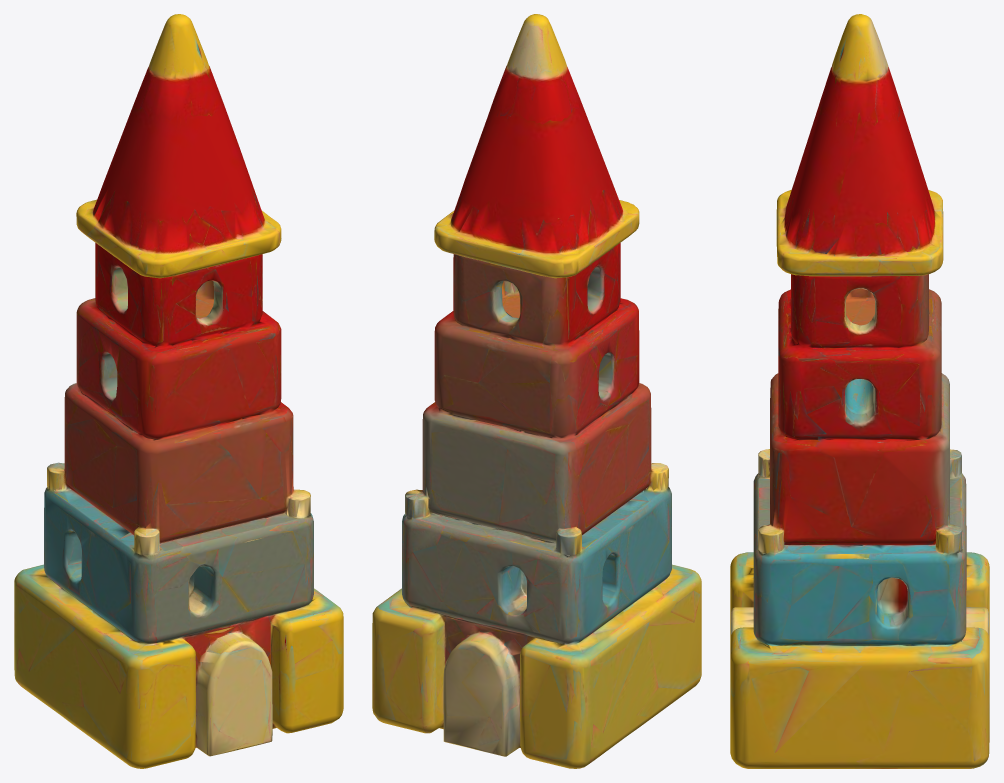
Rendered from toyBlockTower.7f6db496.glb.
3 views of the same model, side by side, from view 1: azimuth 30°, elevation 25°; view 2: azimuth 150°, elevation 25°; view 3: azimuth 270°, elevation 25° (orthographic). The views are drawn at different scales.
Bounding box in the file's own units: 0.6264 × 1.9 × 0.6351.
Materials: 1 (1 with a texture image).
